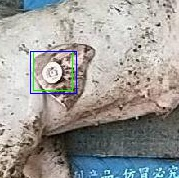text: (33, 51, 72, 90)
